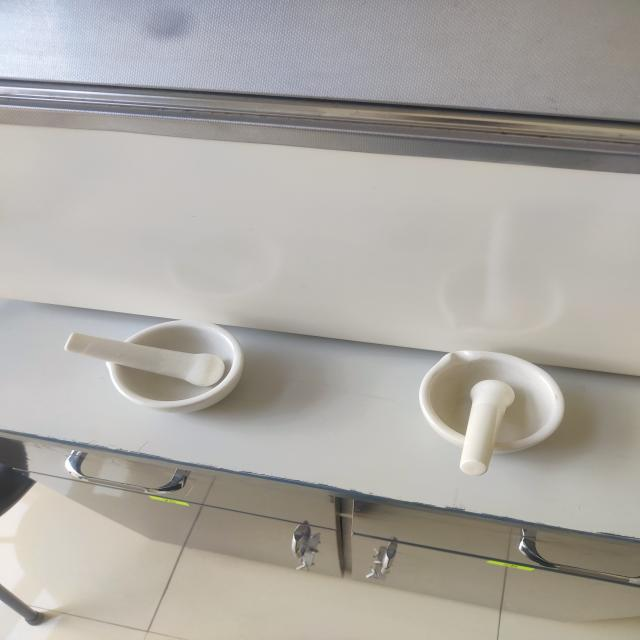Porcelain_Mortar Pestle: (393, 327, 601, 500), (39, 293, 268, 443)
